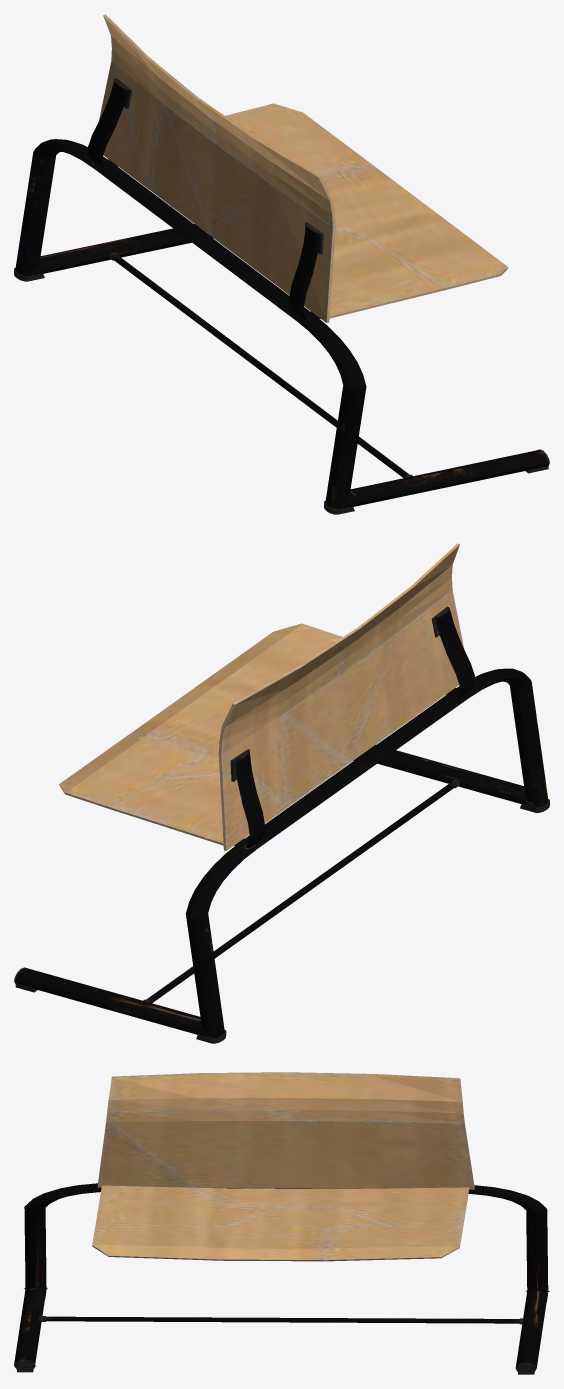
Rendered from chair_5.glb.
3 views of the same model, one above another, from view 1: azimuth 30°, elevation 25°; view 2: azimuth 150°, elevation 25°; view 3: azimuth 270°, elevation 25° (orthographic). The views are drawn at different scales.
Visible parts, largest first — view 1: chair_5; view 2: chair_5; view 3: chair_5.
Boxes of the visible parts, left/top/right/bottom form: chair_5: left=14, top=14, right=549, bottom=514; chair_5: left=14, top=543, right=549, bottom=1043; chair_5: left=14, top=1072, right=549, bottom=1374.
Size of the model in its own units: 1.65 by 1.97 by 4.15.
Materials: 1 (1 with a texture image).
